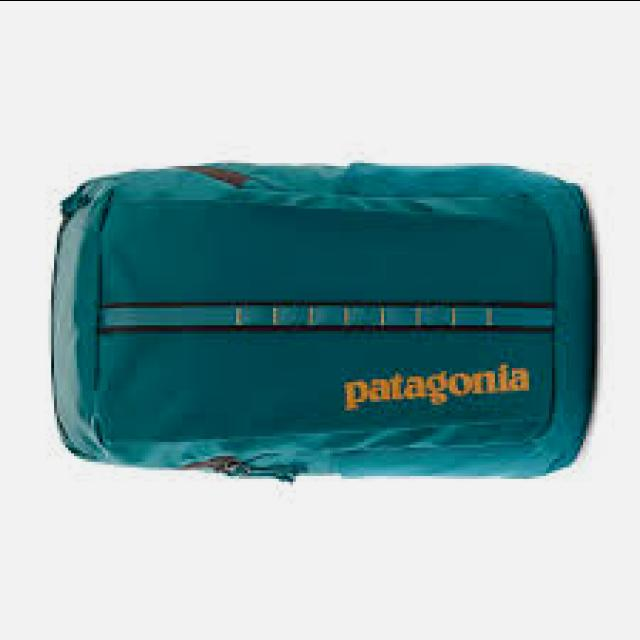backpack: (50, 163, 596, 485)
